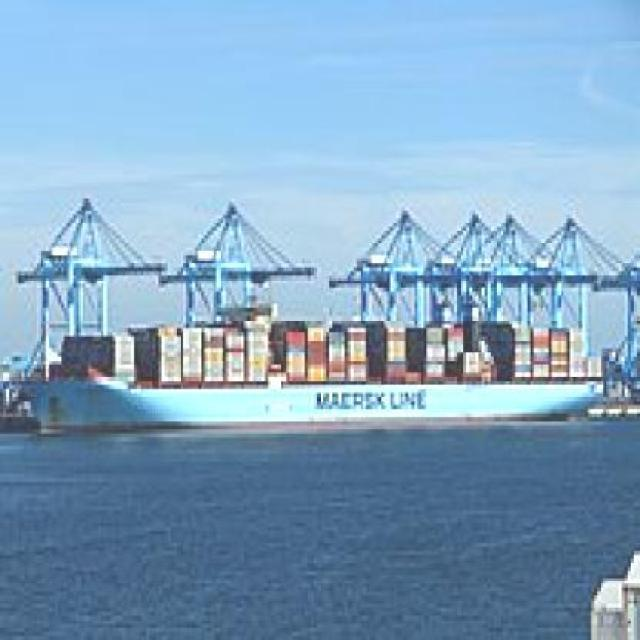Container Ship: (15, 304, 611, 434)
